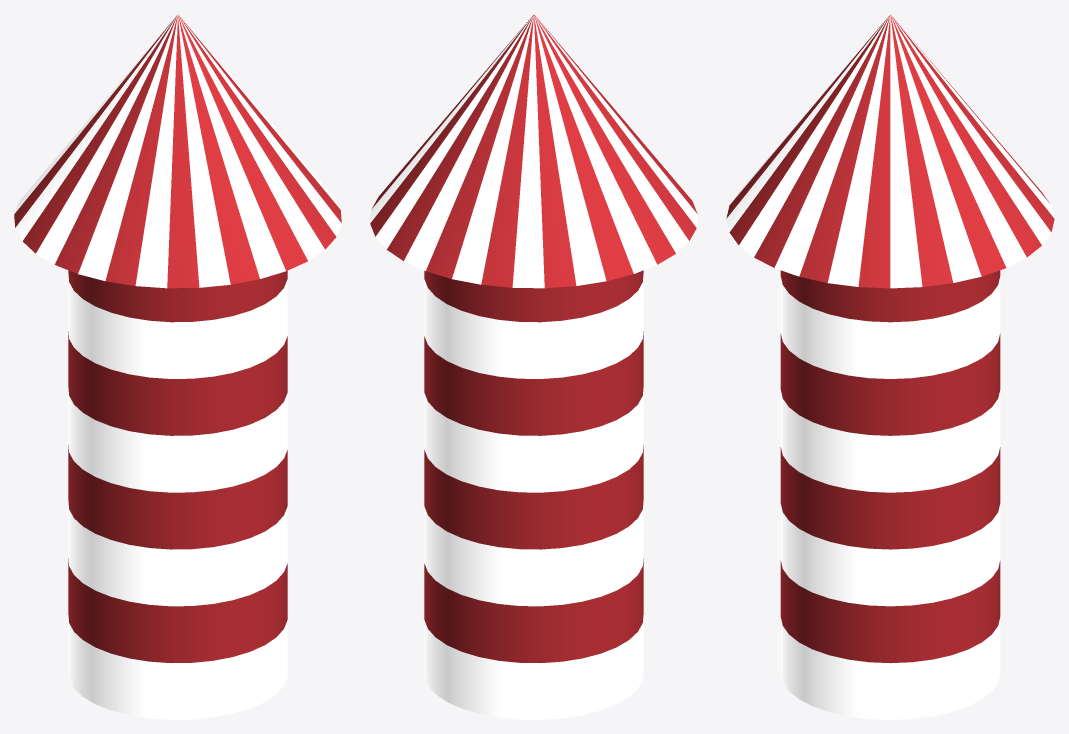
3 views of the same model, side by side, from view 1: azimuth 30°, elevation 25°; view 2: azimuth 150°, elevation 25°; view 3: azimuth 270°, elevation 25° (orthographic).
Visible parts, largest first — view 1: Circle; view 2: Circle; view 3: Circle.
Boxes of the visible parts, box(x1,y1,x2,y2) form: Circle: box(14, 14, 341, 719); Circle: box(370, 14, 697, 719); Circle: box(726, 14, 1054, 719).
Size of the model in its own units: 0.3604 by 0.7987 by 0.3604.
